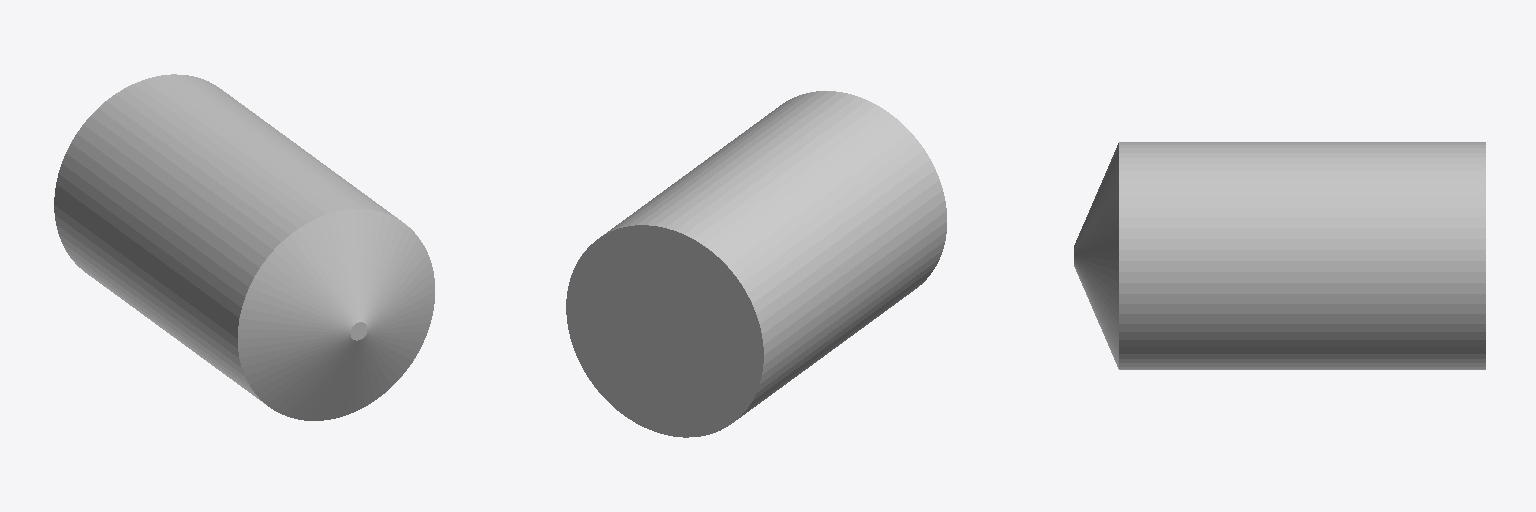
The model's file is Candle5.obj.
3 renders of one model, left to right at view 1: azimuth 30°, elevation 25°; view 2: azimuth 150°, elevation 25°; view 3: azimuth 270°, elevation 25°, orthographic.
Visible parts, largest first — view 1: Candle5_Cylinder.003; view 2: Candle5_Cylinder.003; view 3: Candle5_Cylinder.003.
Part boxes in pixels (x1,y1,x2,y2): Candle5_Cylinder.003: (54, 74, 434, 420); Candle5_Cylinder.003: (566, 91, 946, 437); Candle5_Cylinder.003: (1074, 142, 1485, 369).
Bounding box in the file's own units: 0.0746 × 0.0746 × 0.1346.